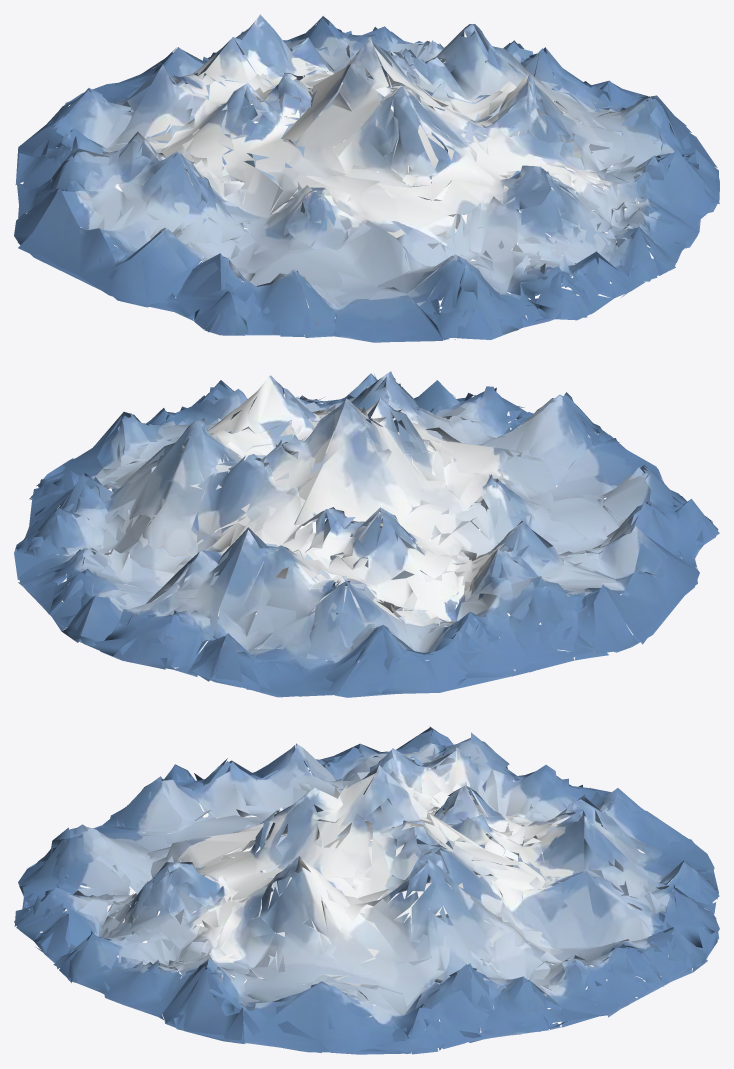
File: mountain_far_gen.glb
3 renders of one model, top to bottom at view 1: azimuth 30°, elevation 25°; view 2: azimuth 150°, elevation 25°; view 3: azimuth 270°, elevation 25°, orthographic. The views are drawn at different scales.
Parts seen in each view (by area): view 1: mountain_far_gen; view 2: mountain_far_gen; view 3: mountain_far_gen.
Part boxes in pixels (x1=…): mountain_far_gen: x1=14, y1=14, x2=719, y2=342; mountain_far_gen: x1=14, y1=371, x2=719, y2=697; mountain_far_gen: x1=14, y1=726, x2=719, y2=1054.
Size of the model in its own units: 3897 by 933 by 3894.
Materials: 1 (1 with a texture image).
